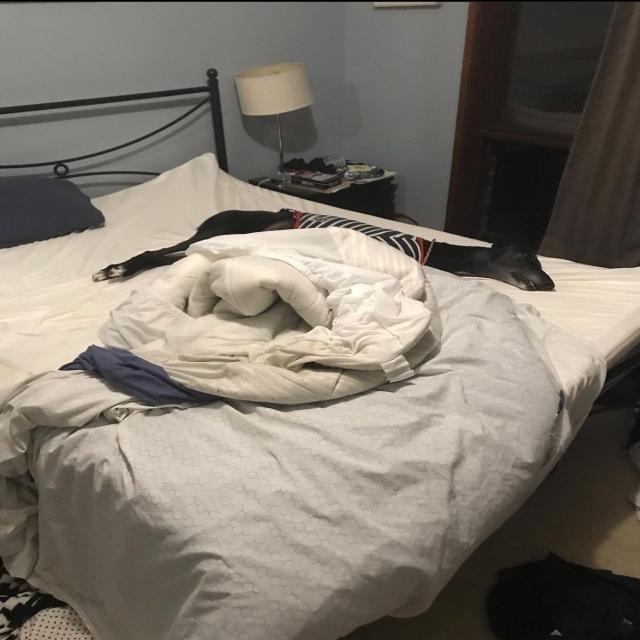bed: (0, 125, 589, 624)
